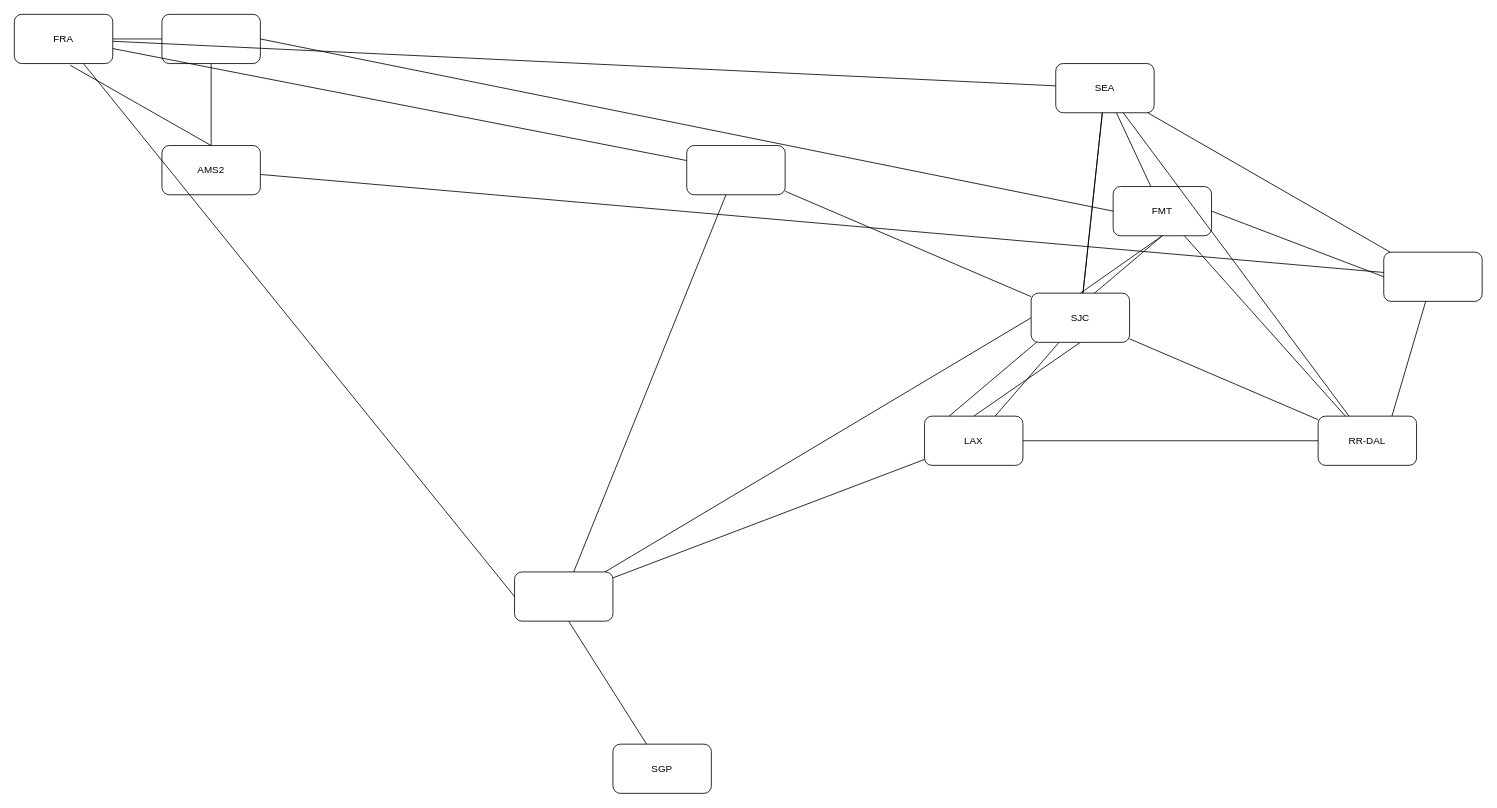
This 1497x808 diagram has some shape labels left out. The shapes that lost their labels are listed below. From the top down, each one's centre as x and y in pixels, then its label:
At [210,39]: "AMS".
At [735,170]: "RR-SEL".
At [1432,276]: "MCI".
At [563,596]: "HK".
